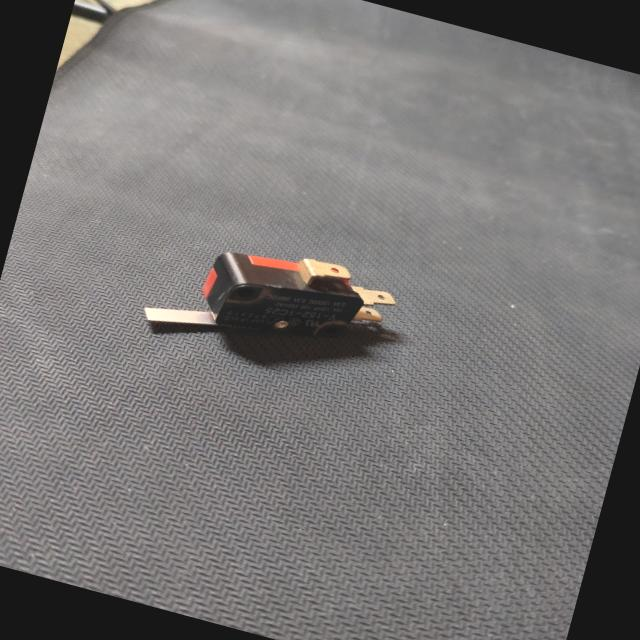switch: (128, 210, 420, 397)
